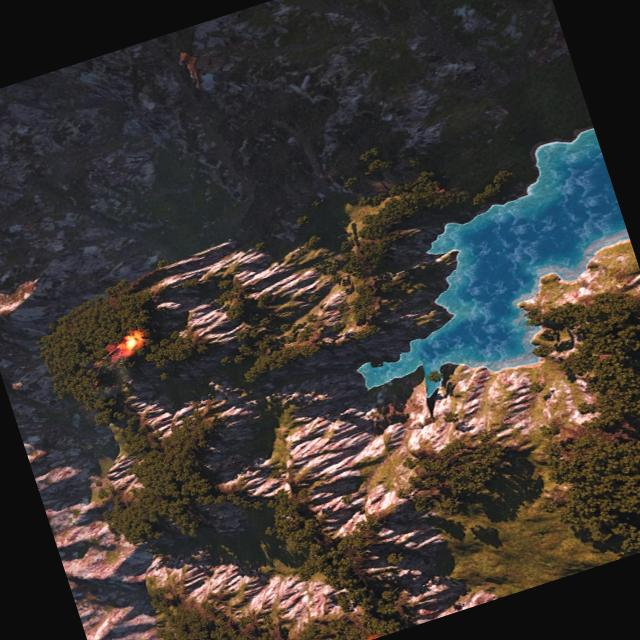fire: (112, 330, 146, 358)
